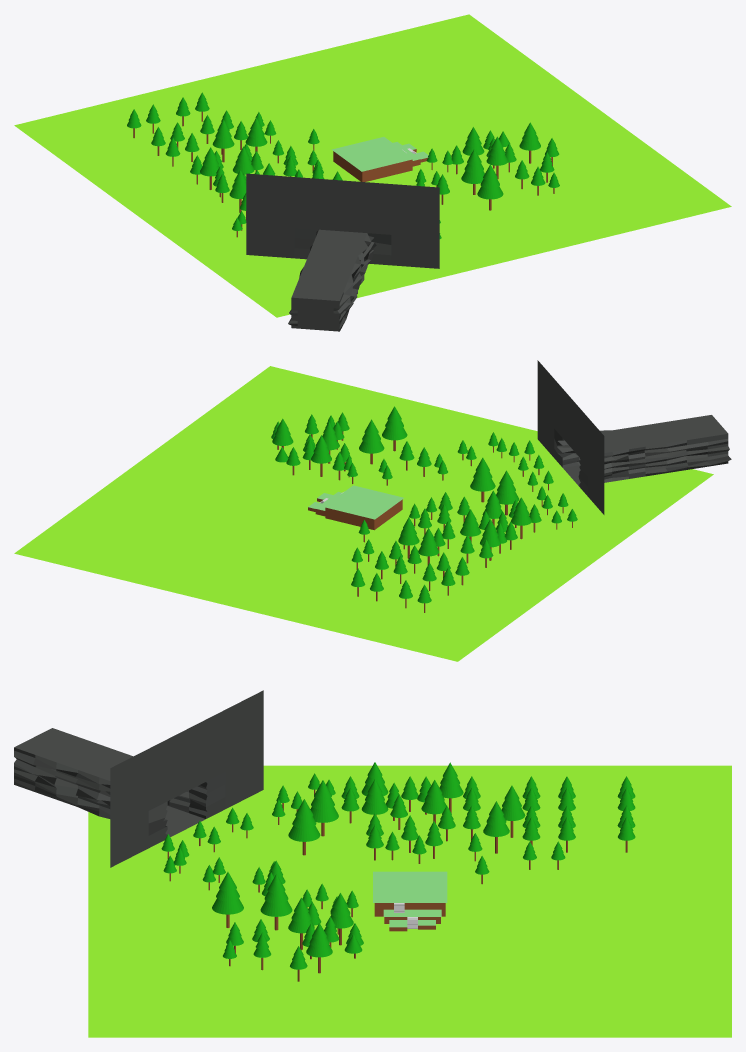
File: env_test.fbx
The picture shows the model from 3 angles, top to bottom: view 1: azimuth 30°, elevation 25°; view 2: azimuth 150°, elevation 25°; view 3: azimuth 270°, elevation 25°; orthographic projection. The views are drawn at different scales.
Visible parts, largest first — view 1: Plane, Cube.010, Cube.006, Cube; view 2: Plane, Cube.010, Cube.006, Cube; view 3: Plane, Cube.010, Cube.006.
Boxes of the visible parts, box(x1,y1,x2,y2) form: Plane: box(14, 14, 731, 317); Cube.010: box(246, 173, 439, 331); Cube.006: box(331, 137, 413, 171); Cube: box(333, 151, 412, 181); Plane: box(14, 366, 713, 661); Cube.010: box(537, 360, 731, 514); Cube.006: box(324, 485, 403, 519); Cube: box(325, 499, 402, 530); Plane: box(88, 765, 731, 1037); Cube.010: box(14, 690, 263, 867); Cube.006: box(373, 871, 447, 902).
Bounding box in the file's own units: 29230 × 5382 × 32346.
